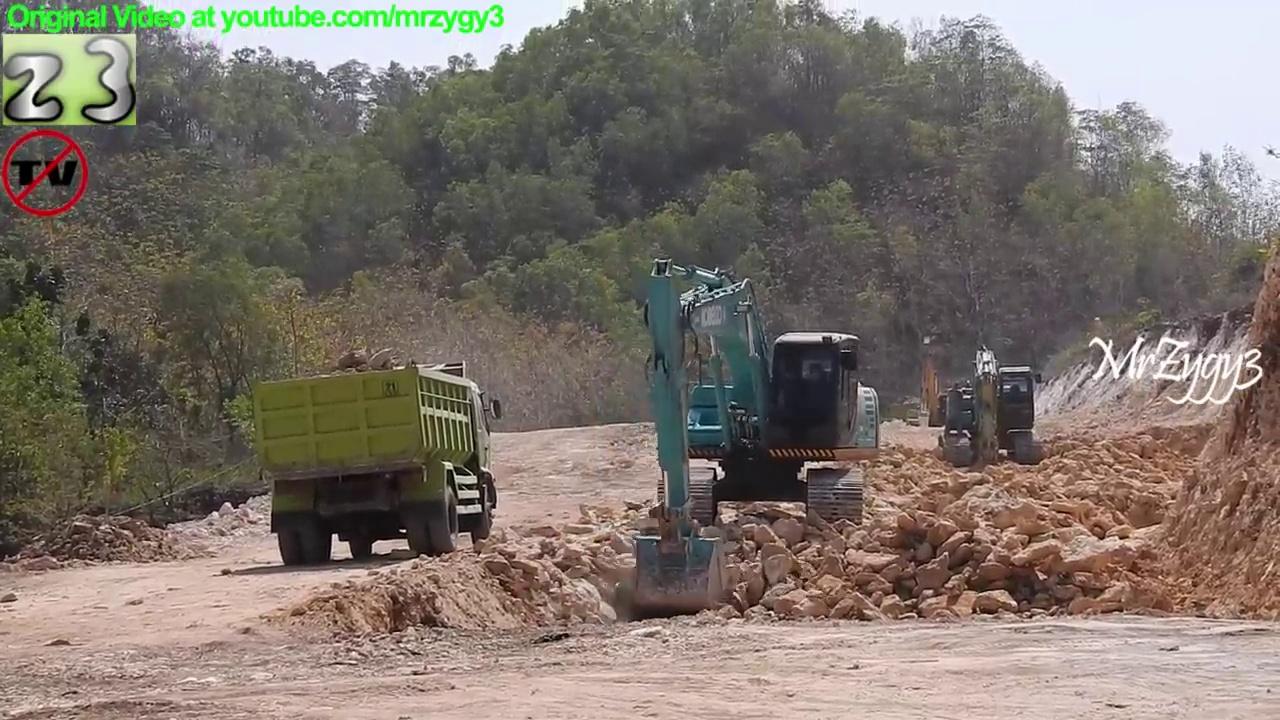excavator: (626, 251, 889, 626), (900, 328, 967, 436)
excavator breaker: (931, 340, 1050, 476)
truck: (248, 352, 503, 569)
